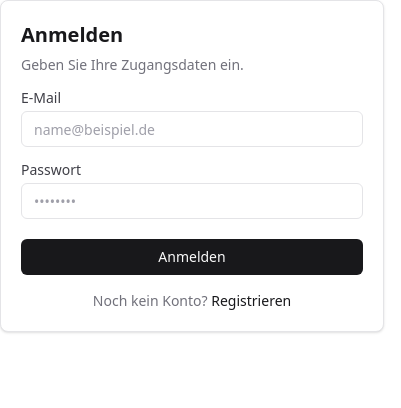
Test: LoginForm (Integration) › zeigt Serverfehler bei falschen Anmeldedaten
The width and height of the screenshot is (401, 408).
In the field labelled "E-Mail": (192, 129) [21,111,363,147], type "falsch@example.com"
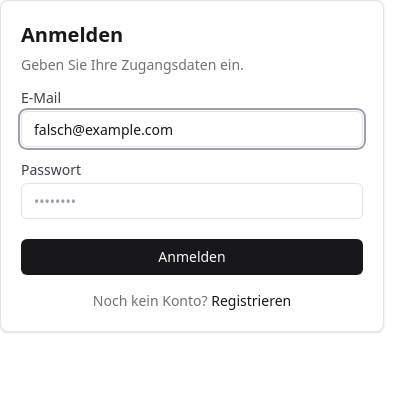
In the password field labelled "Passwort": (192, 201) [21,183,363,219], type "falschesPasswort"
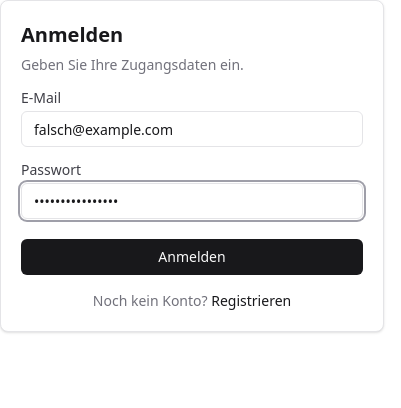
Click the button "Anmelden": (192, 257) [21,239,363,275]
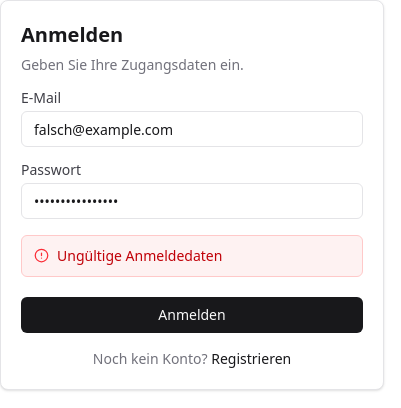
Check: the message "Ungültige Anmeldedaten" is shown, box [57,246,222,266]
